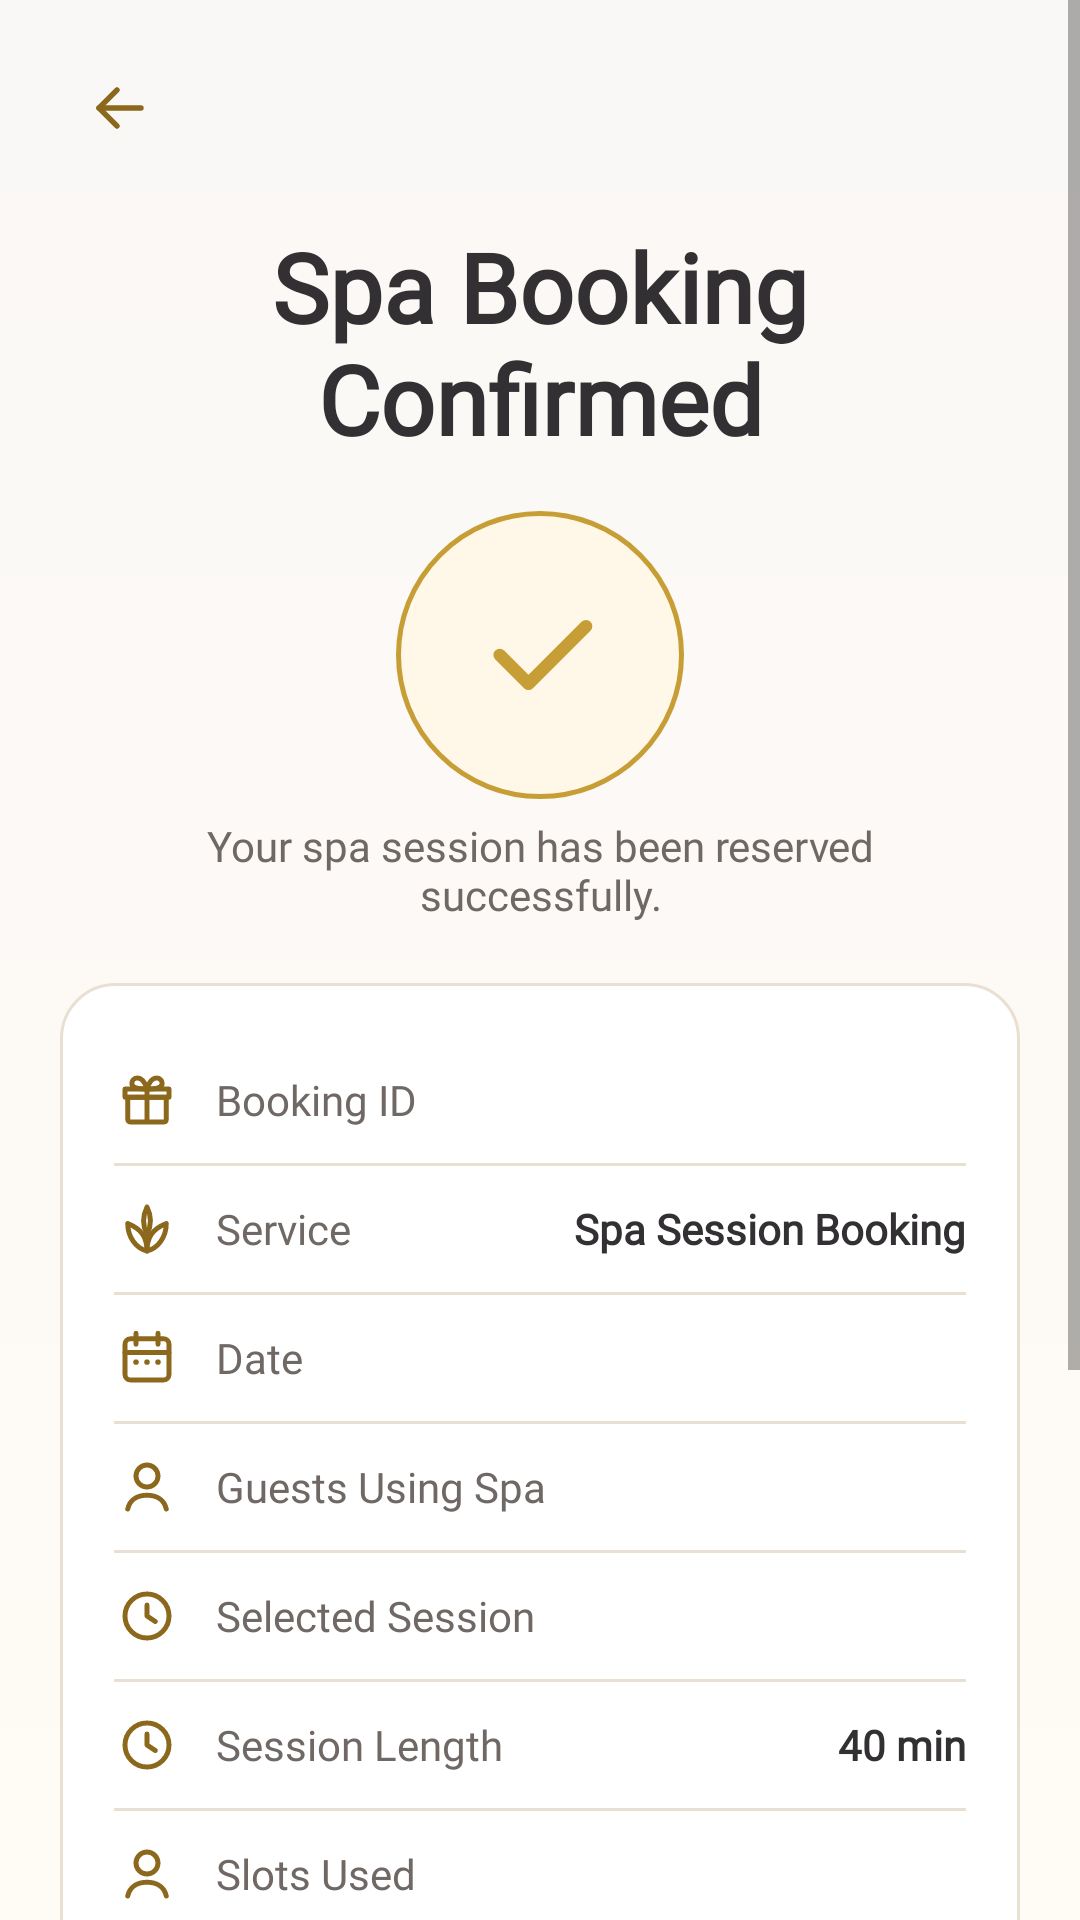

Named icons in this screenshot (1080x1920) and their centers, point (x, y):
arrowleft: point (120, 108)
calendar: point (147, 1357)
check: point (543, 655)
clock: point (147, 1616), point (147, 1745)
gift: point (147, 1100)
profile: point (147, 1487), point (147, 1874)
wellness: point (147, 1229)
